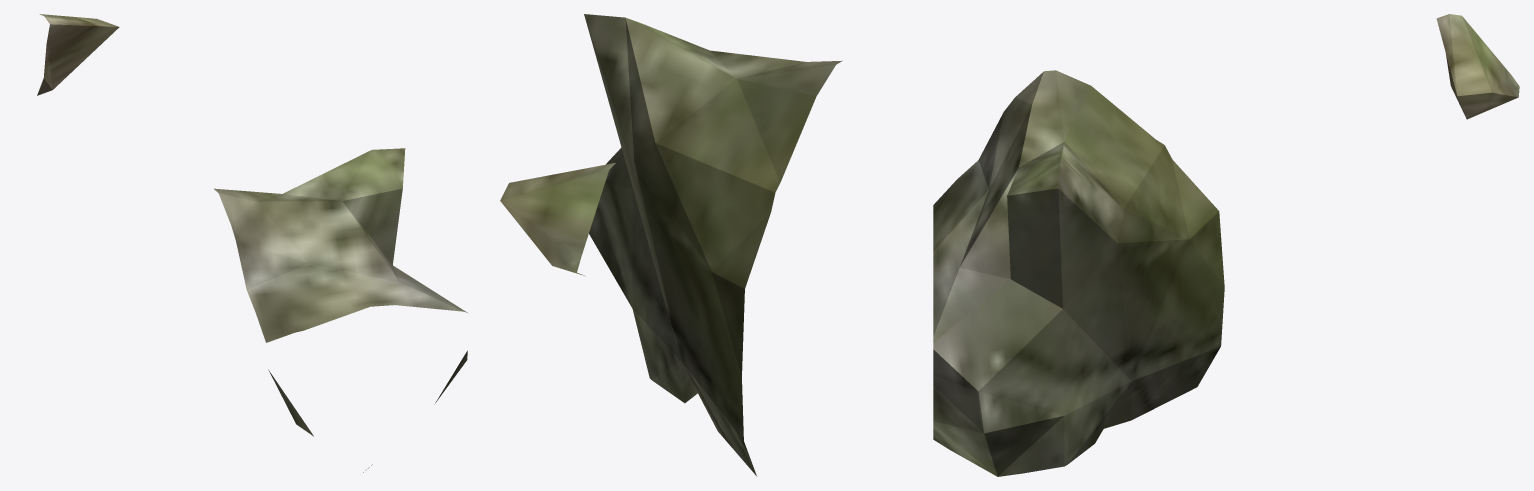
3 renders of one model, left to right at view 1: azimuth 30°, elevation 25°; view 2: azimuth 150°, elevation 25°; view 3: azimuth 270°, elevation 25°, orthographic. The views are drawn at different scales.
Size of the model in its own units: 0.6931 by 0.9523 by 1.36.
Materials: 1 (1 with a texture image).
